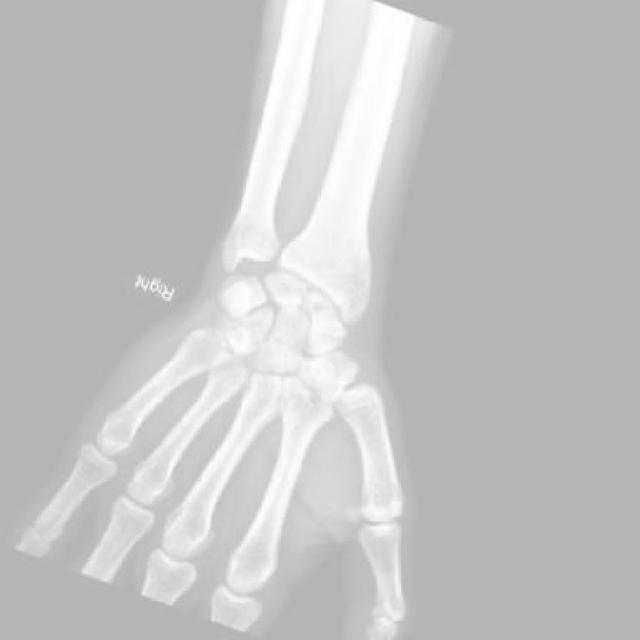Fracture: (296, 285, 356, 336)
